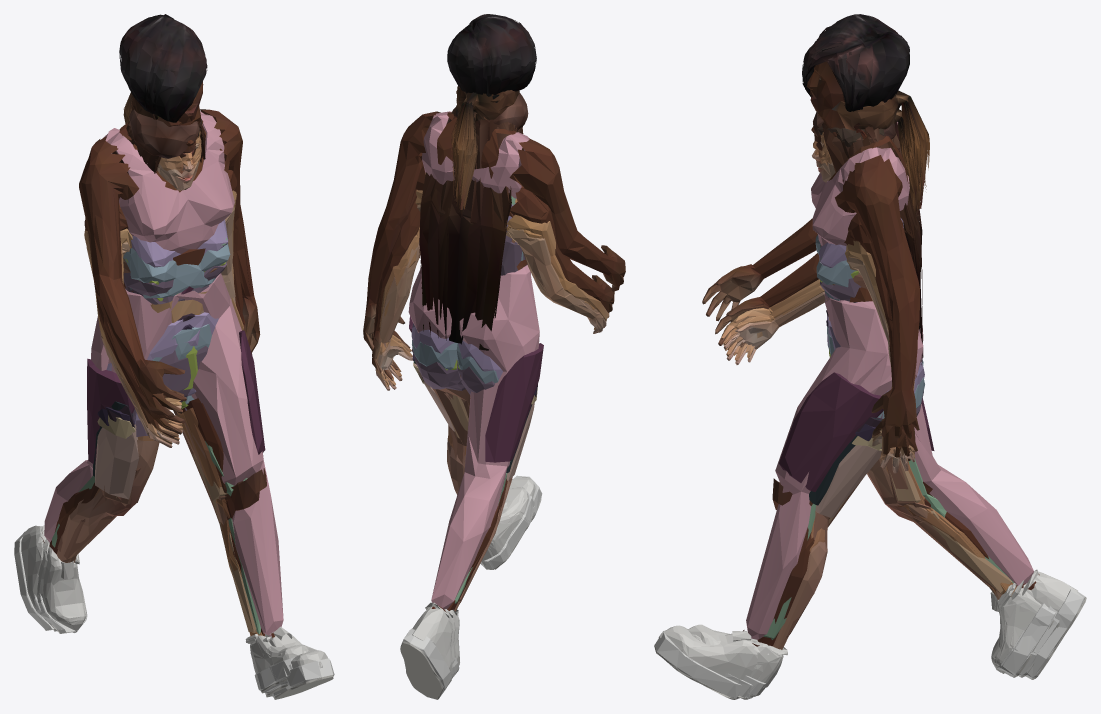
The model's file is nagnata.glb.
The picture shows the model from 3 angles, left to right: view 1: azimuth 30°, elevation 25°; view 2: azimuth 150°, elevation 25°; view 3: azimuth 270°, elevation 25°; orthographic projection. The views are drawn at different scales.
Parts seen in each view (by area): view 1: Look nagnata-3, Look nagnata-6, Look nagnata-0, Look nagnata-4, Look nagnata-1, Look nagnata-7, Look nagnata-2, Look nagnata-5; view 2: Look nagnata-3, Look nagnata-6, Look nagnata-0, Look nagnata-4, Look nagnata-2, Look nagnata-1, Look nagnata-5, Look nagnata-7; view 3: Look nagnata-3, Look nagnata-0, Look nagnata-6, Look nagnata-4, Look nagnata-1, Look nagnata-2, Look nagnata-5, Look nagnata-7.
Part boxes in pixels (box(x1,y1,x2,y2)): Look nagnata-3: box(14, 14, 334, 699); Look nagnata-6: box(38, 130, 283, 673); Look nagnata-0: box(34, 92, 308, 697); Look nagnata-4: box(44, 131, 308, 682); Look nagnata-1: box(37, 118, 291, 672); Look nagnata-7: box(62, 109, 287, 689); Look nagnata-2: box(73, 121, 287, 693); Look nagnata-5: box(34, 106, 307, 692); Look nagnata-3: box(363, 14, 625, 699); Look nagnata-6: box(376, 111, 607, 677); Look nagnata-0: box(372, 86, 614, 677); Look nagnata-4: box(376, 111, 609, 547); Look nagnata-2: box(375, 105, 606, 568); Look nagnata-1: box(375, 109, 606, 678); Look nagnata-5: box(372, 91, 613, 676); Look nagnata-7: box(380, 92, 606, 561); Look nagnata-3: box(654, 14, 1086, 699); Look nagnata-0: box(692, 90, 1059, 699); Look nagnata-6: box(712, 122, 1036, 696); Look nagnata-4: box(687, 109, 1055, 677); Look nagnata-1: box(707, 123, 1013, 695); Look nagnata-2: box(723, 123, 1053, 674); Look nagnata-5: box(692, 108, 1059, 699); Look nagnata-7: box(723, 111, 1038, 672).
Size of the model in its own units: 0.5186 by 1.68 by 0.9866.
